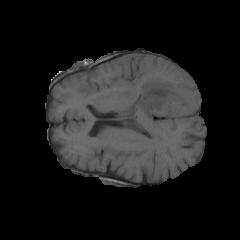glioma: (125, 76, 187, 120)
